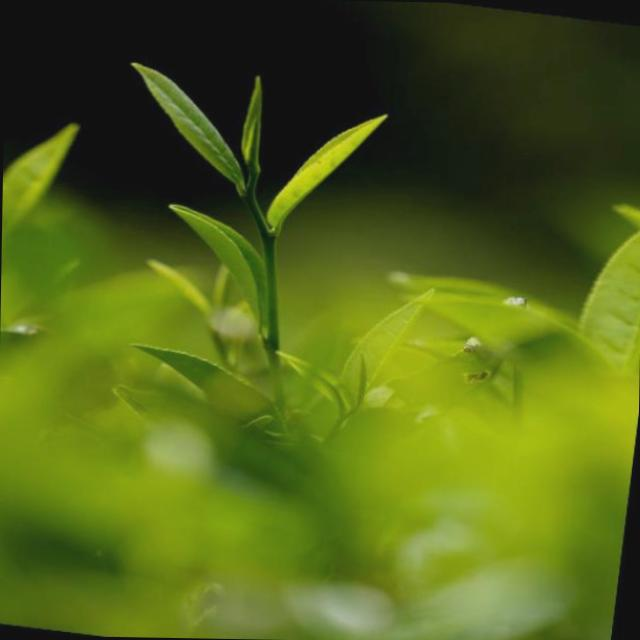Stem: (261, 236, 277, 276)
